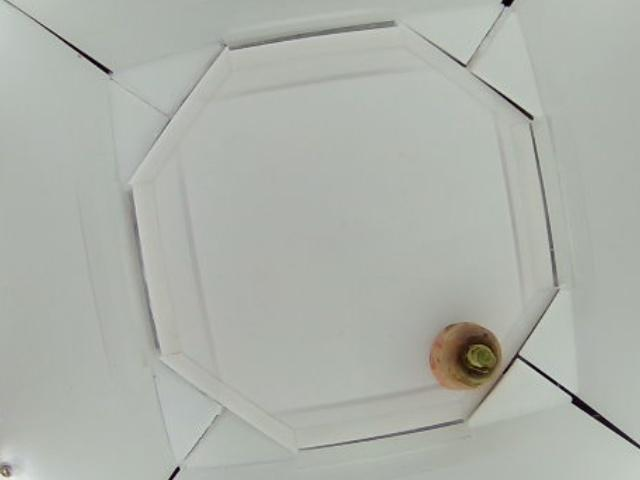Carrot: (430, 321, 501, 390)
